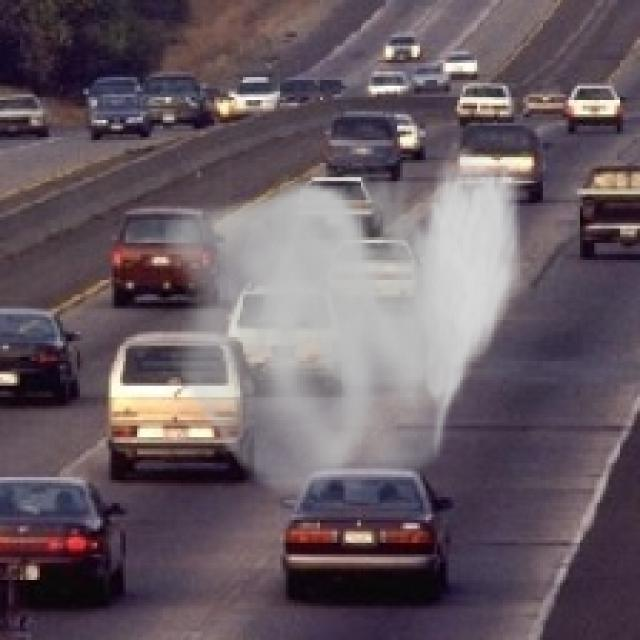Smoke: (162, 140, 528, 506)
